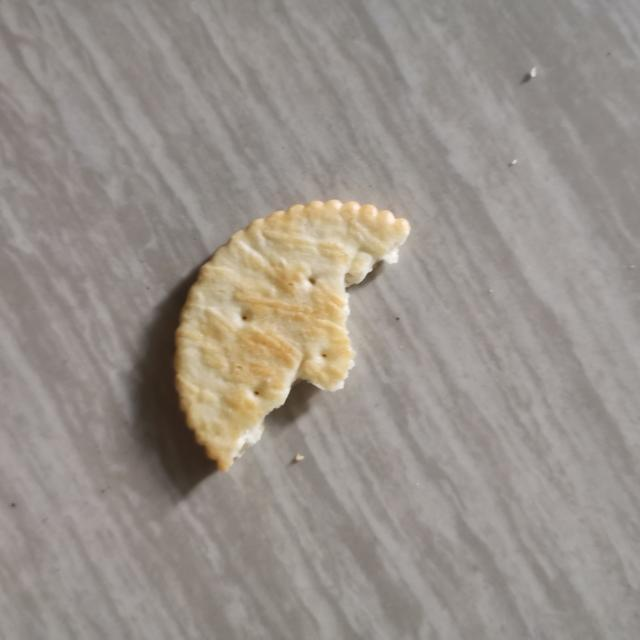Broken: (172, 197, 411, 473)
